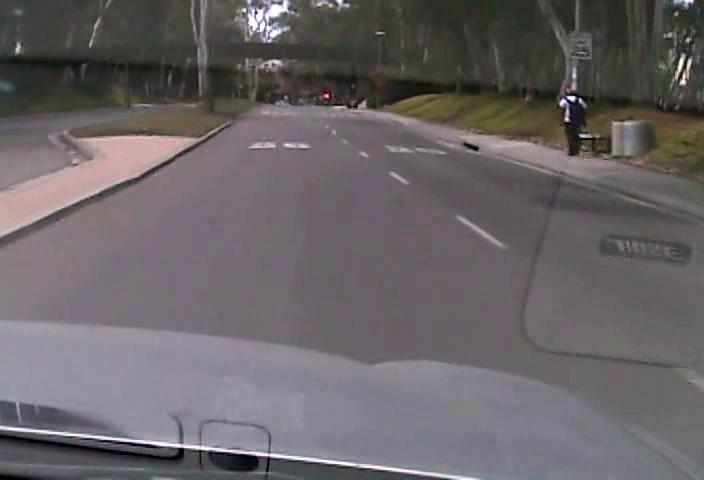speedLimit25: (567, 29, 593, 60)
